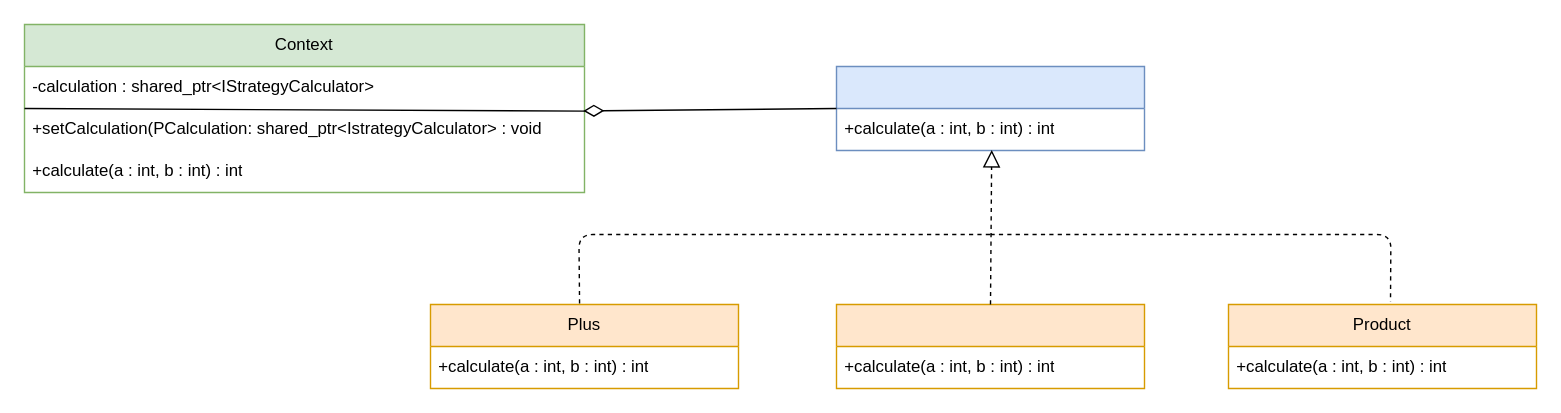
This 1561x413 diagram has some shape labels left out. The shapes that lost their labels are listed below. From the top down, each one's box as (x1, y1, x2, y2) in pixels, then its label:
(835, 65, 1144, 150): <<interface>> IStrategyCalculator
(835, 303, 1144, 388): Minus
